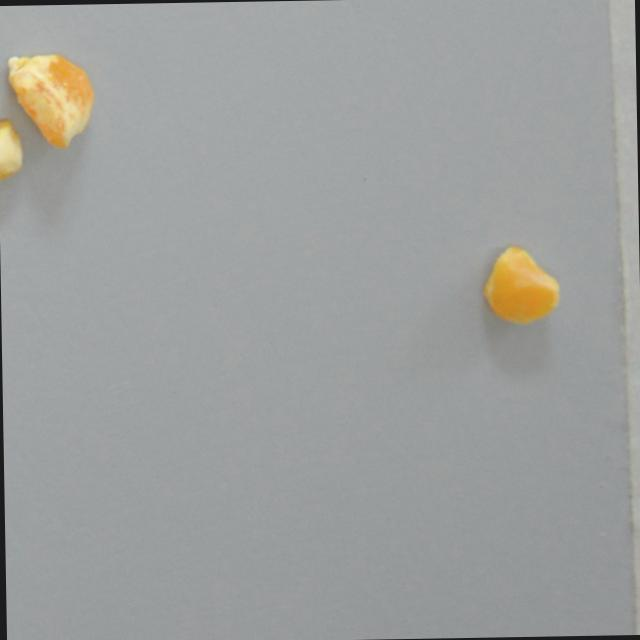no_desgerminado: (0, 40, 98, 154)
pelicula: (481, 243, 565, 328), (0, 116, 26, 203)
